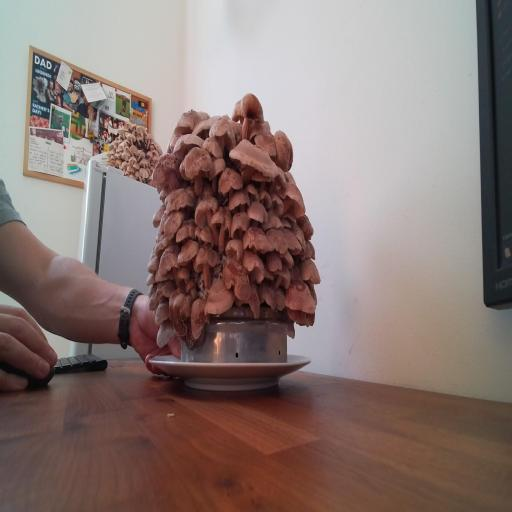Shiitake Mushroom: (213, 131, 293, 200), (169, 132, 225, 201), (210, 250, 266, 309), (200, 198, 245, 254), (199, 109, 249, 159), (185, 235, 227, 291), (177, 291, 219, 342), (164, 122, 212, 164), (147, 146, 185, 199), (231, 246, 276, 289), (275, 175, 309, 228), (163, 285, 194, 341), (154, 200, 193, 243), (156, 239, 189, 288), (168, 104, 215, 137), (237, 89, 266, 142), (256, 221, 297, 258), (185, 109, 226, 146), (246, 123, 286, 160), (146, 314, 183, 352), (169, 233, 206, 270), (282, 279, 320, 313), (276, 218, 306, 260), (238, 224, 277, 256), (160, 183, 200, 214), (175, 317, 206, 357), (264, 165, 294, 206), (203, 277, 235, 315), (250, 280, 284, 310), (273, 127, 295, 173), (151, 229, 177, 265), (217, 163, 244, 197), (193, 194, 219, 229), (243, 281, 265, 322), (293, 208, 318, 244), (245, 167, 277, 195), (263, 189, 291, 219), (244, 114, 275, 140), (224, 233, 247, 264), (172, 218, 200, 243), (150, 297, 173, 327), (285, 307, 317, 328), (254, 186, 278, 214), (246, 199, 269, 228), (242, 178, 264, 208), (290, 220, 311, 251), (147, 202, 171, 229), (152, 278, 179, 301), (200, 134, 225, 158), (264, 246, 284, 276), (143, 250, 164, 278), (230, 211, 250, 240), (300, 258, 321, 284), (295, 241, 317, 265), (152, 267, 178, 287), (228, 188, 250, 211), (212, 157, 226, 193), (182, 181, 201, 206), (262, 207, 282, 230), (198, 223, 217, 247), (274, 263, 291, 289), (155, 181, 174, 203), (307, 279, 320, 307), (166, 130, 180, 153), (146, 288, 159, 312), (230, 99, 243, 122), (281, 170, 299, 185), (307, 239, 318, 261), (276, 287, 285, 311), (290, 265, 303, 281), (202, 182, 214, 198), (144, 270, 156, 286), (177, 266, 190, 280), (279, 217, 293, 229), (159, 212, 166, 235)
